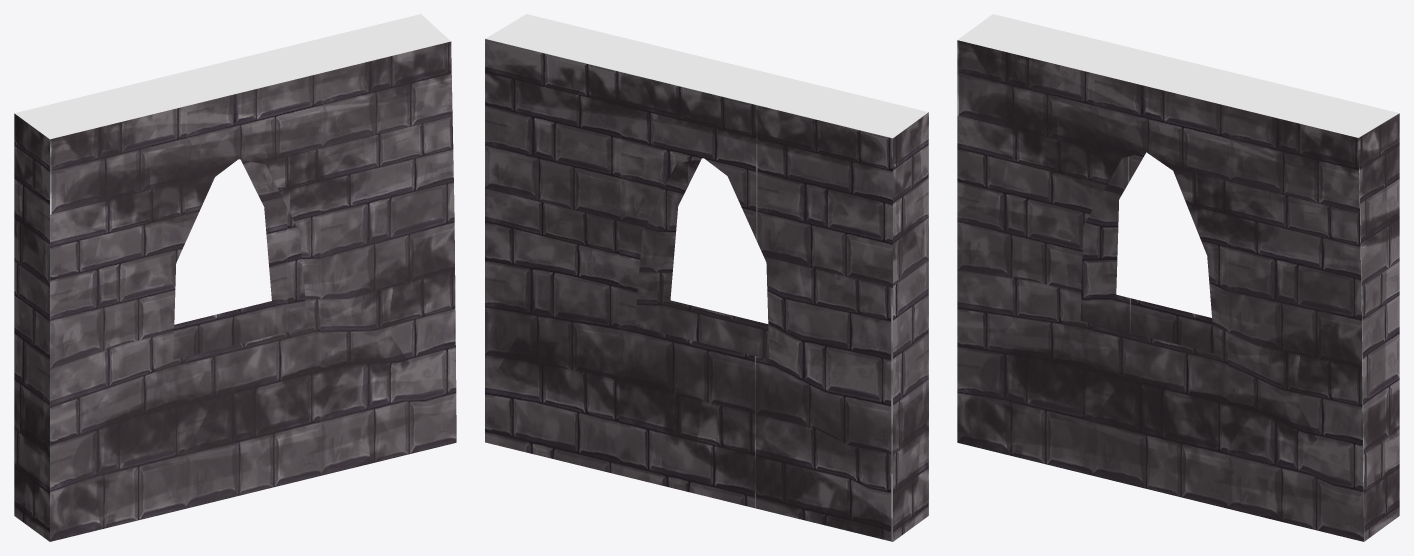
File: Castle_Wall2.fbx
3 views of the same model, side by side, from view 1: azimuth 30°, elevation 25°; view 2: azimuth 150°, elevation 25°; view 3: azimuth 330°, elevation 25° (orthographic).
Parts seen in each view (by area): view 1: L_Wall2; view 2: L_Wall2; view 3: L_Wall2.
Part boxes in pixels (bbox=[...]): L_Wall2: bbox=[14, 14, 456, 541]; L_Wall2: bbox=[485, 14, 928, 541]; L_Wall2: bbox=[957, 14, 1399, 541].
Size of the model in its own units: 0.0834 by 0.0789 by 0.0127.
